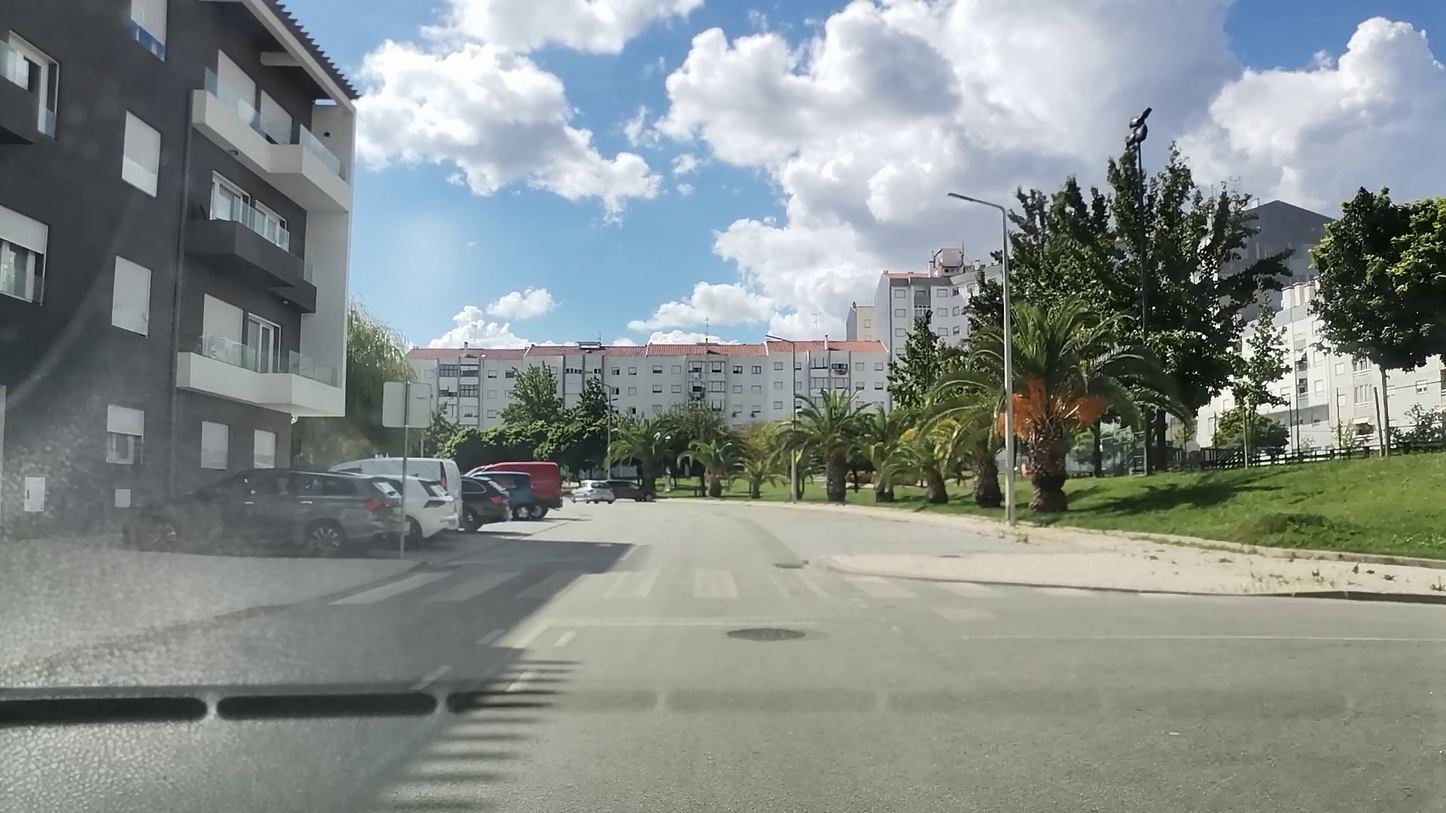Stairs: (339, 573, 1160, 606)
